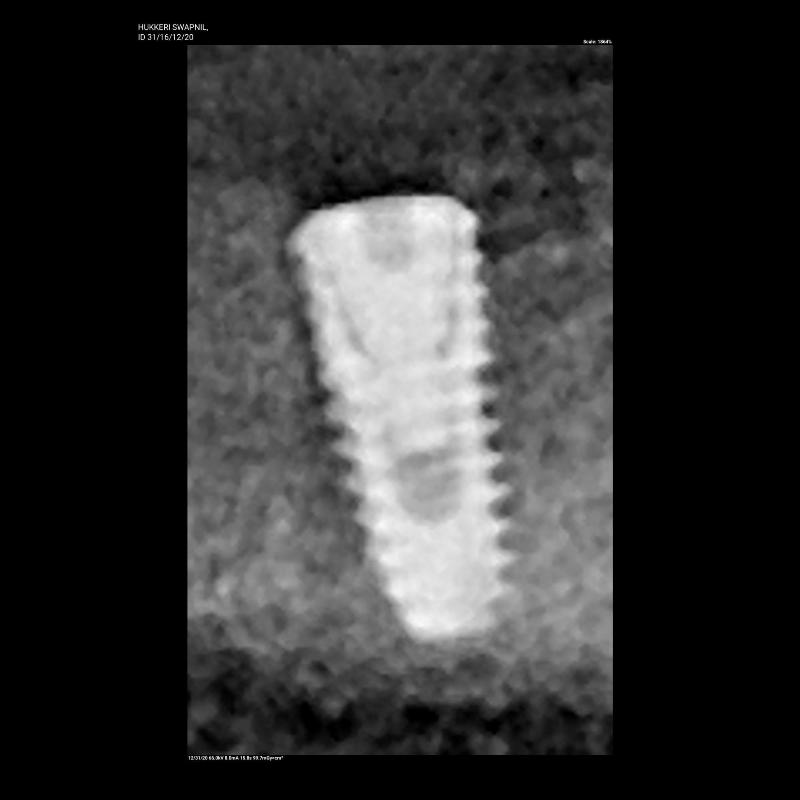osstem: (272, 185, 526, 643)
